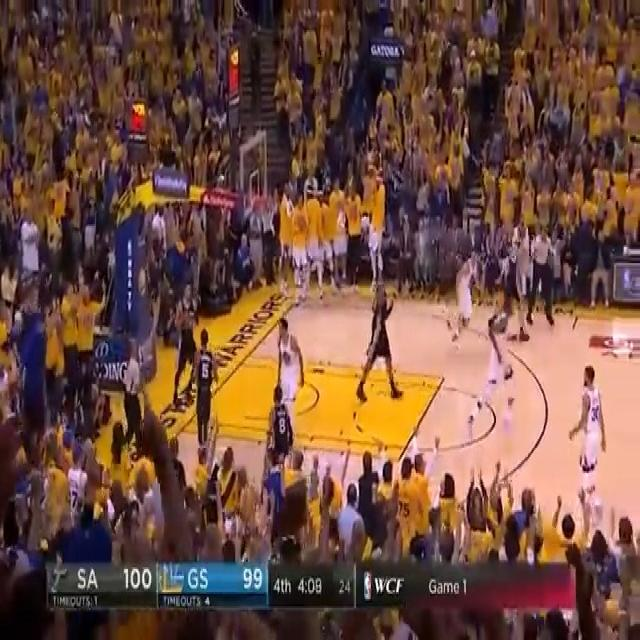hoop: (254, 193, 278, 236)
